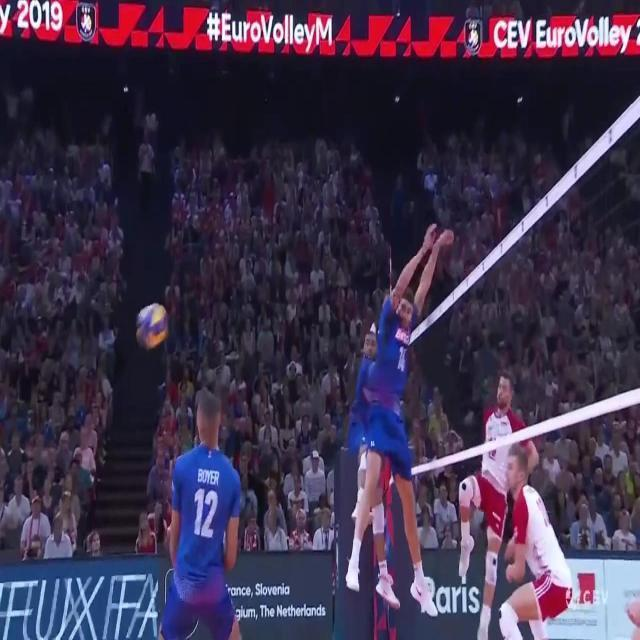volleyball: (135, 305, 168, 349)
